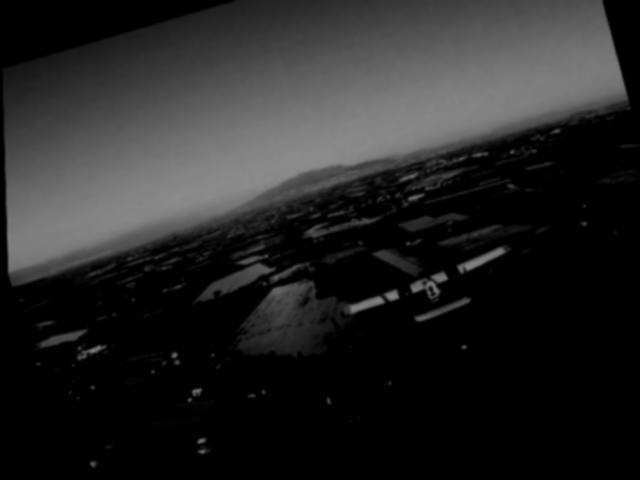hedef: (326, 231, 533, 361)
